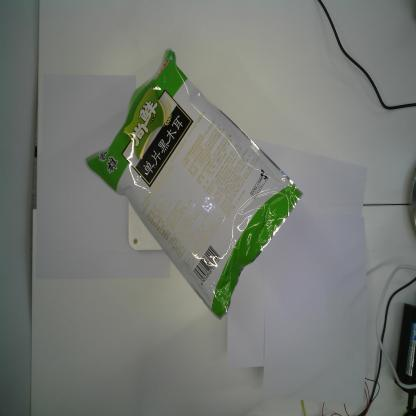Dried Food: (83, 46, 305, 323)
